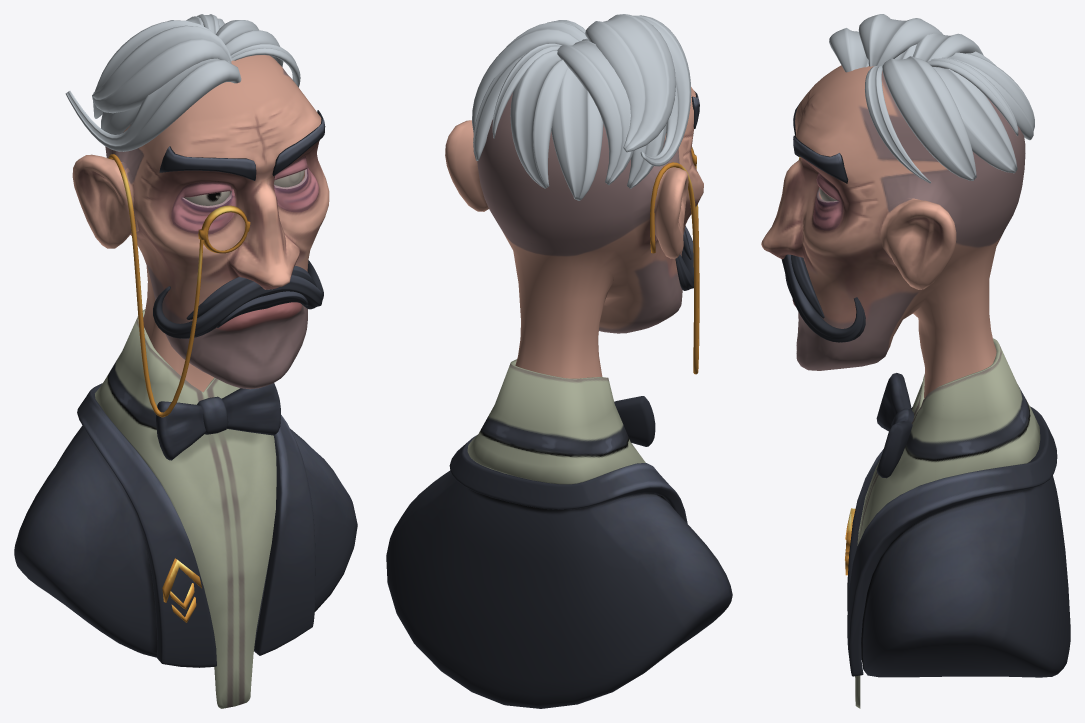
The model's file is LowPoly.fbx.
3 renders of one model, left to right at view 1: azimuth 30°, elevation 25°; view 2: azimuth 150°, elevation 25°; view 3: azimuth 270°, elevation 25°, orthographic.
Visible parts, largest first — view 1: Character LP; view 2: Character LP; view 3: Character LP.
Part boxes in pixels (x1,y1,x2,y2): Character LP: (14,14,357,708); Character LP: (386,14,732,708); Character LP: (761,14,1070,708).
Bounding box in the file's own units: 2.9 × 6.04 × 2.53.
